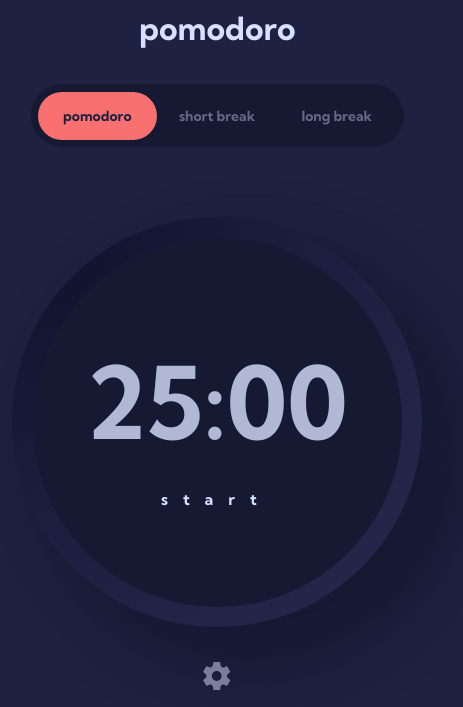
Scenario: Home › Changing mode changes start time
Click the button "short break" at (217, 116), box [157,92,277,140]
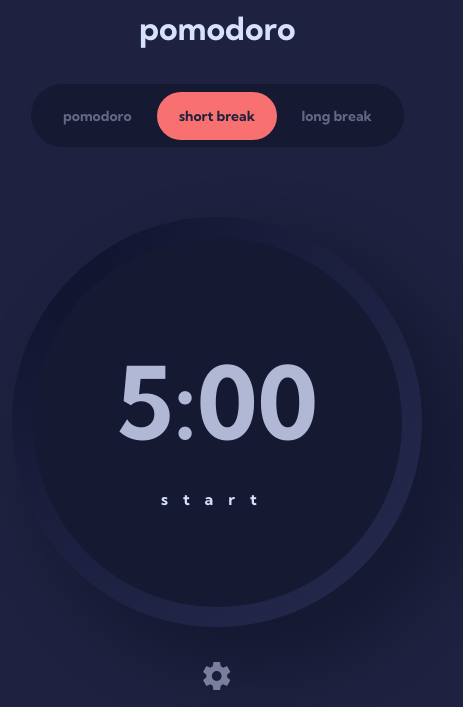
Expected: the text with test id "progress-time" reads "5:00", [116,340,318,464]
Click the button "long break" at (337, 116), box [277,92,396,140]
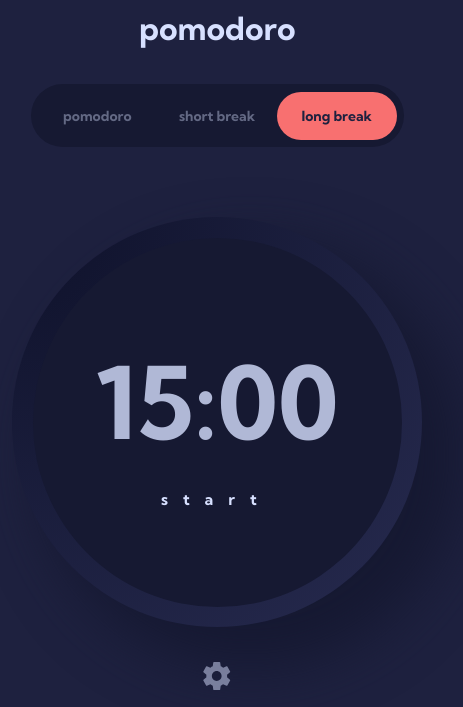
Expected: the text with test id "progress-time" reads "15:00", [96,340,338,464]
Click the button "pomodoro" at (97, 116), box [38,92,157,140]
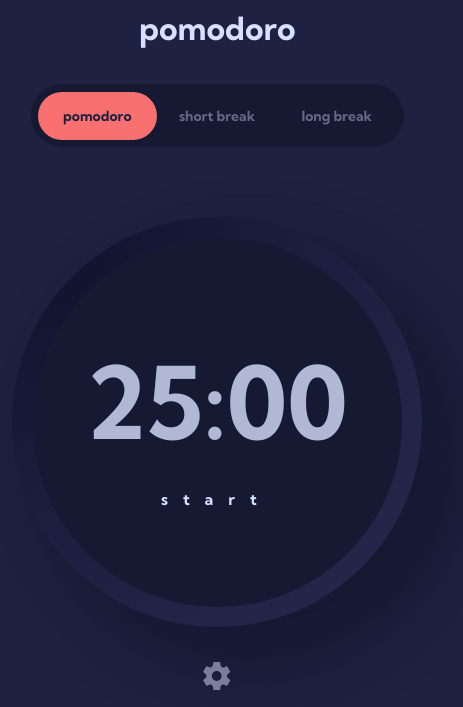
Expected: the text with test id "progress-time" reads "25:00", [86,340,348,464]
